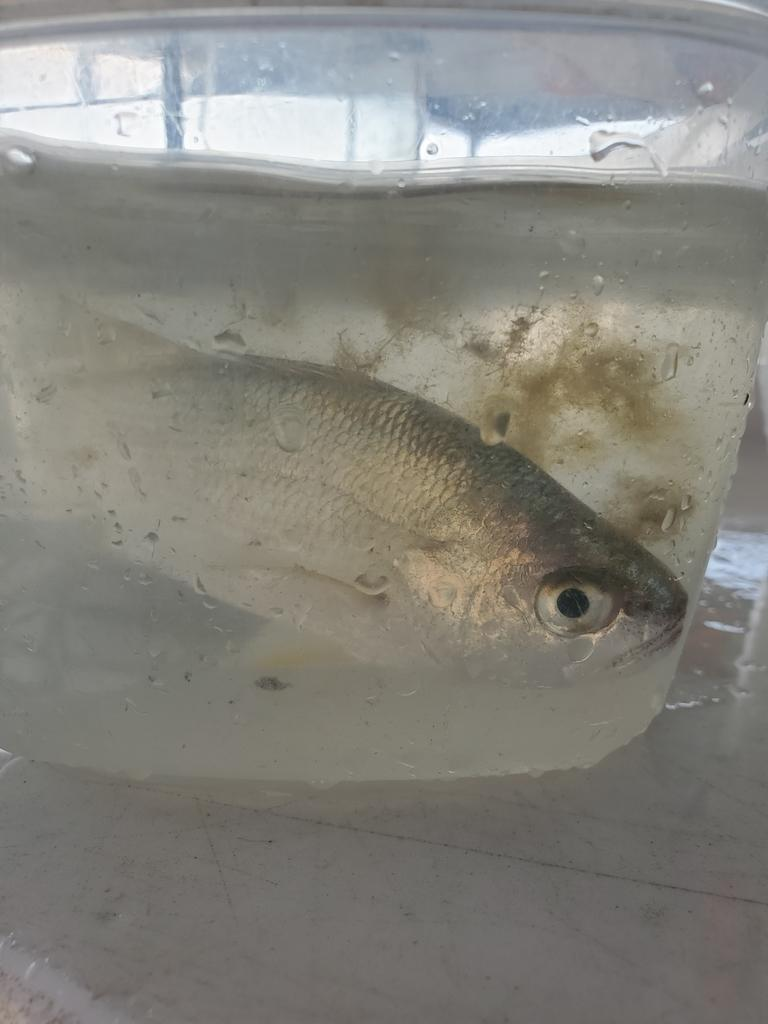Silver Perch: (28, 302, 685, 722)
